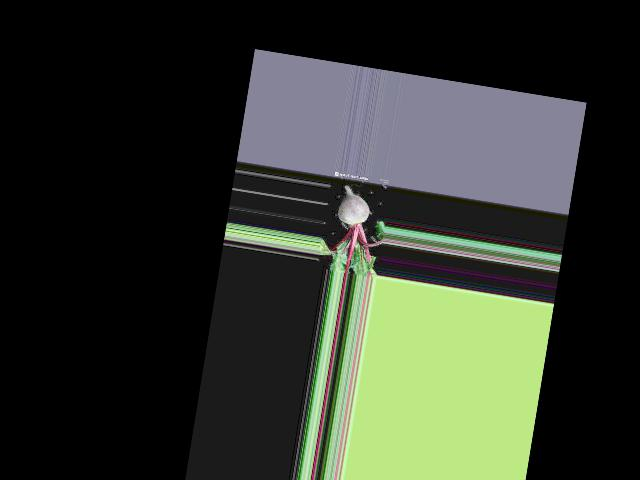beet: (316, 183, 391, 278)
